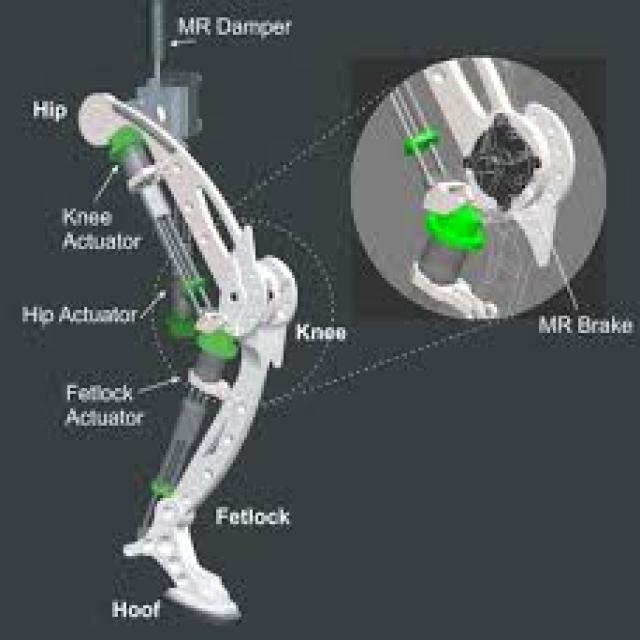humanoid-leg: (120, 312, 261, 618)
